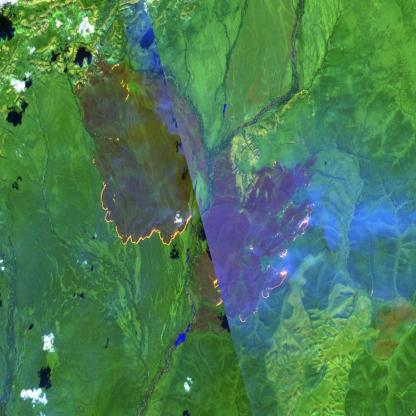fire: (209, 200, 317, 326), (100, 181, 196, 253), (66, 56, 138, 108)
